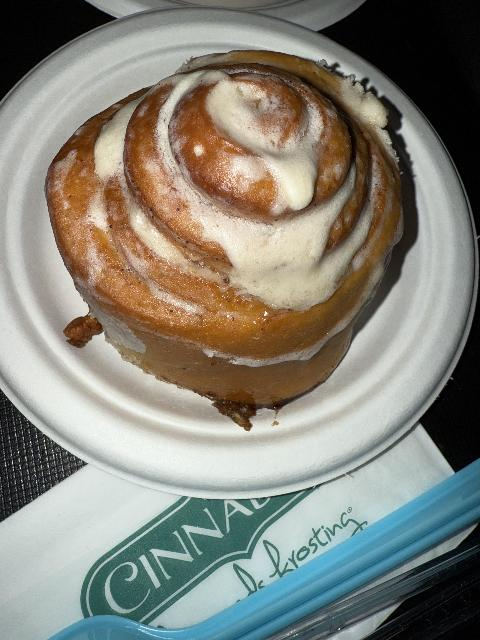Organik: (38, 51, 413, 413)
Plastik: (44, 460, 480, 640)
